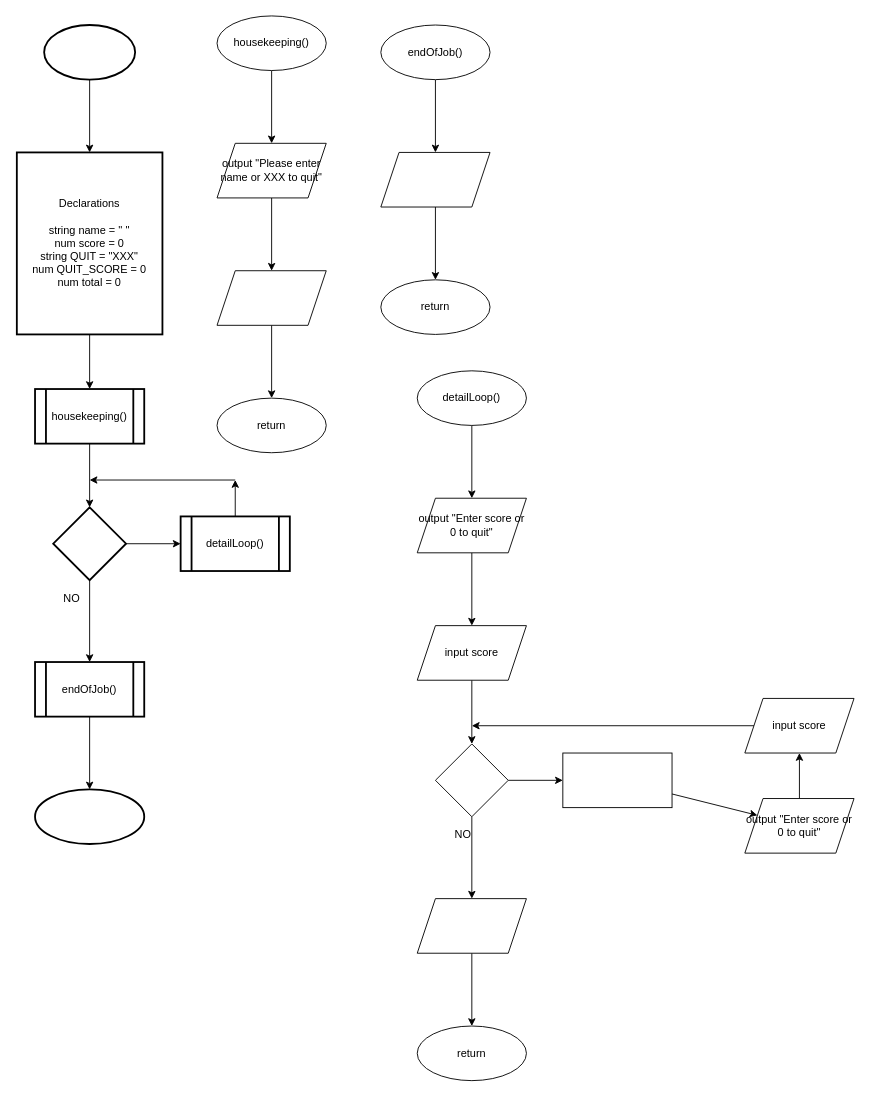
The diagram is 870 pixels wide and 1097 high, and some of its shapes have lost their labels. Here are the shapes that lost their labels. From the top down, the centre of each, then its label:
point (89, 52): start
point (435, 179): output "Job complete"
point (271, 297): input name
point (89, 543): name <> QUIT
point (471, 780): score <> QUIT_SCORE
point (617, 780): total = total + score
point (89, 816): stop
point (471, 925): output name, "Total score :", score
